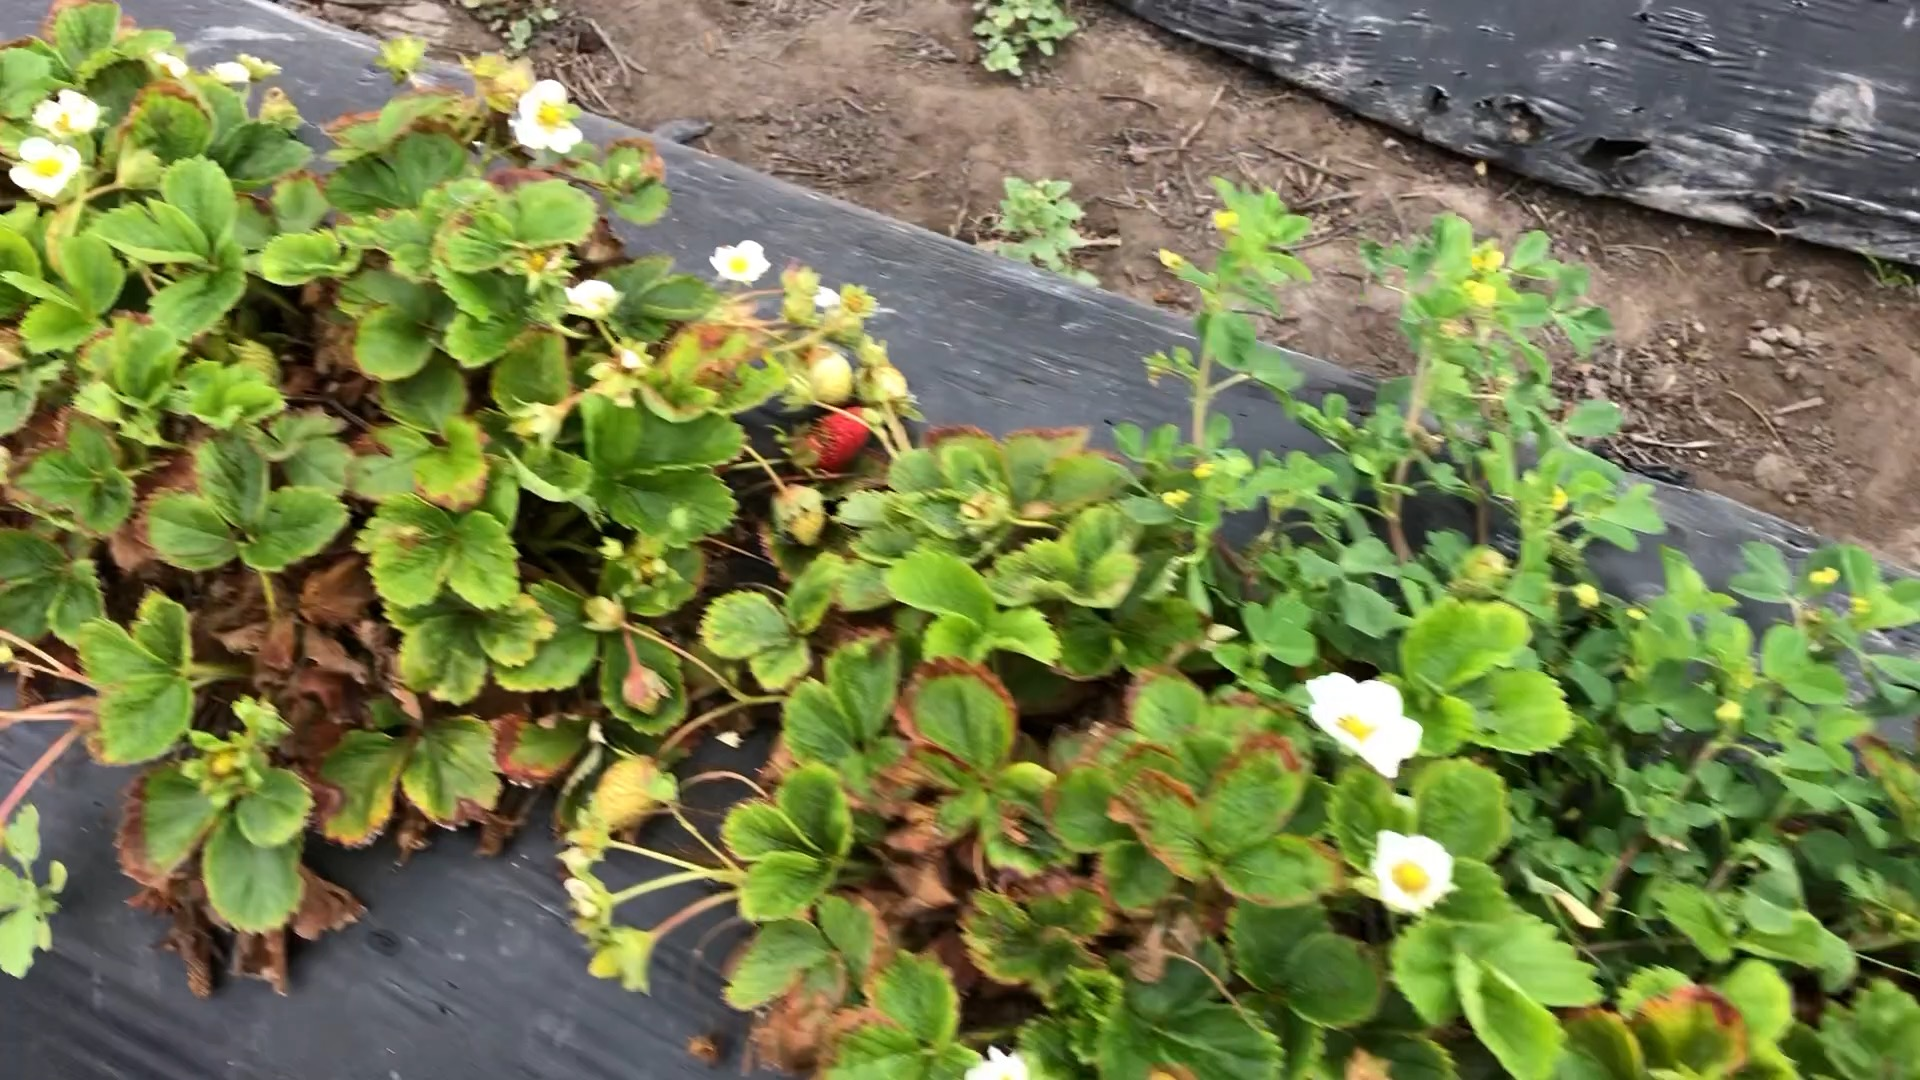ripe_strawberry: (803, 402, 877, 473)
unripe_strawberry: (582, 754, 661, 845), (793, 349, 853, 410)
